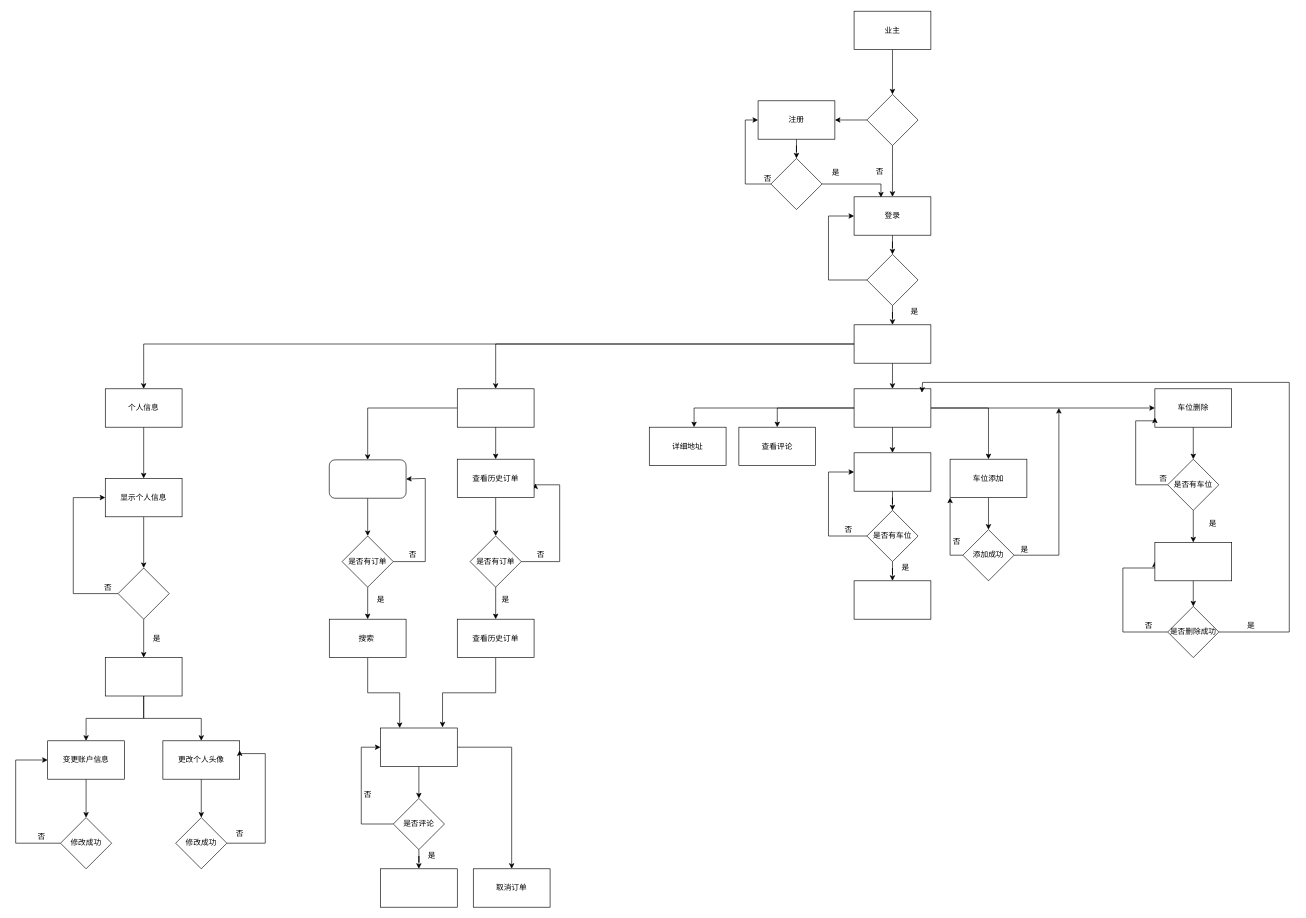
Image size: 1306x918. Some labels were removed from this diagram. Here are the shapes that lost their labels. From the top down, the centre of each, then its label:
pixel 892 120: 是否注册
pixel 892 343: 主页
pixel 495 407: 历史订单
pixel 892 407: 租客主页
pixel 367 478: 搜索历史订单
pixel 892 471: 发布车位
pixel 1193 561: 删除车位
pixel 143 593: 显示成功
pixel 892 599: 发布
pixel 143 676: 修改个人信息
pixel 418 746: 查看订单详情
pixel 418 887: 评论订单
